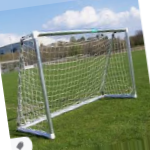goals: (14, 26, 139, 140)
